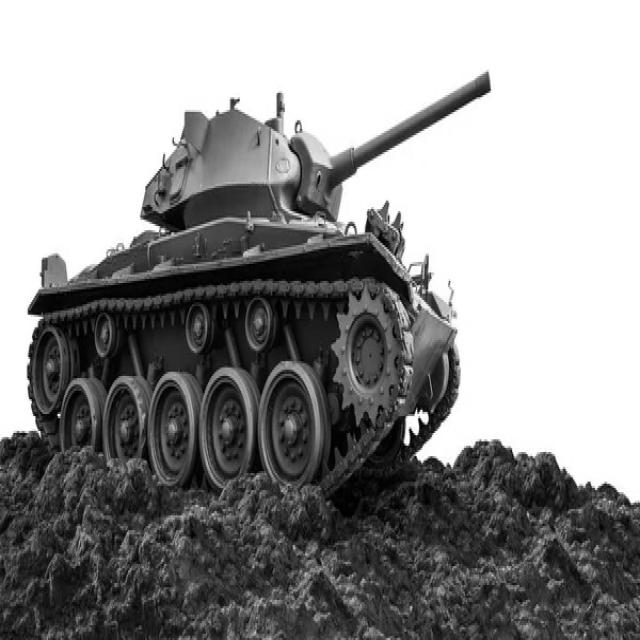Tank: (24, 49, 502, 478)
